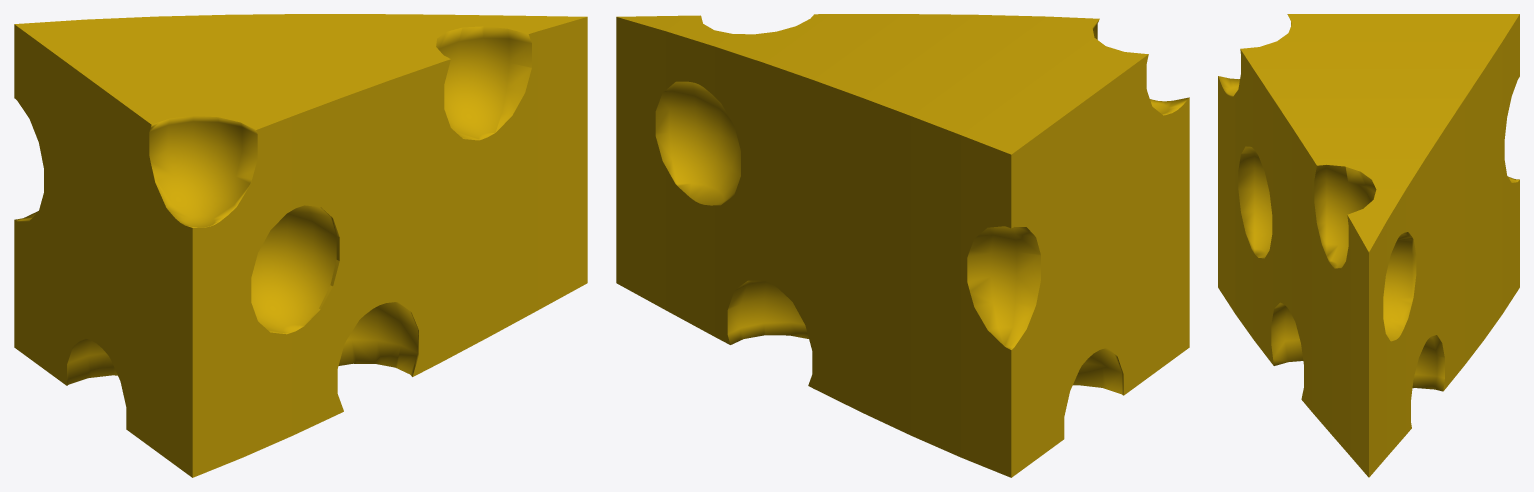
File: Cheese(1).glb
The picture shows the model from 3 angles, left to right: view 1: azimuth 30°, elevation 25°; view 2: azimuth 150°, elevation 25°; view 3: azimuth 270°, elevation 25°; orthographic projection. The views are drawn at different scales.
Parts seen in each view (by area): view 1: Cube; view 2: Cube; view 3: Cube.
Part boxes in pixels (x1=…): Cube: x1=14, y1=14, x2=587, y2=477; Cube: x1=616, y1=14, x2=1189, y2=477; Cube: x1=1218, y1=14, x2=1519, y2=477.
Size of the model in its own units: 3.14 by 2.02 by 2.
